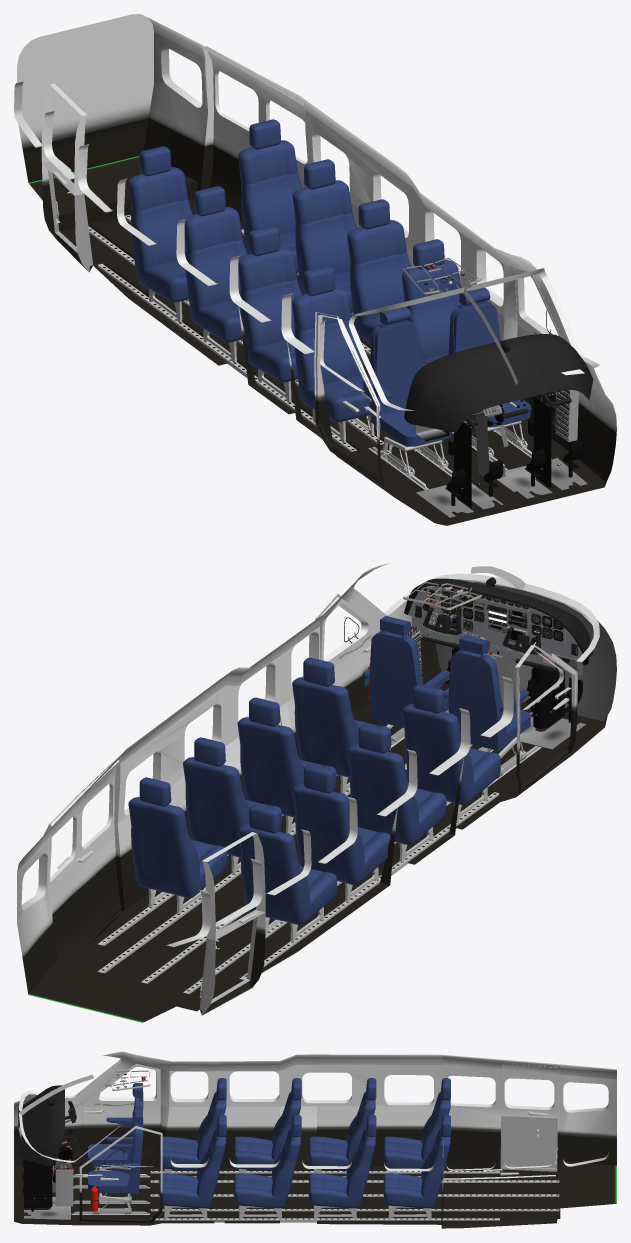
File: interior.gltf
3 renders of one model, top to bottom at view 1: azimuth 30°, elevation 25°; view 2: azimuth 150°, elevation 25°; view 3: azimuth 270°, elevation 25°, orthographic. The views are drawn at different scales.
Parts seen in each view (by area): view 1: Interior; view 2: Interior; view 3: Interior.
Boxes of the visible parts, x1=… form: Interior: x1=14, y1=14, x2=616, y2=525; Interior: x1=16, y1=563, x2=616, y2=1022; Interior: x1=14, y1=1051, x2=616, y2=1228.
Size of the model in its own units: 1.82 by 1.51 by 6.5.
70 materials, 45 textured.
